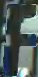Parking: (3, 2, 37, 74)
